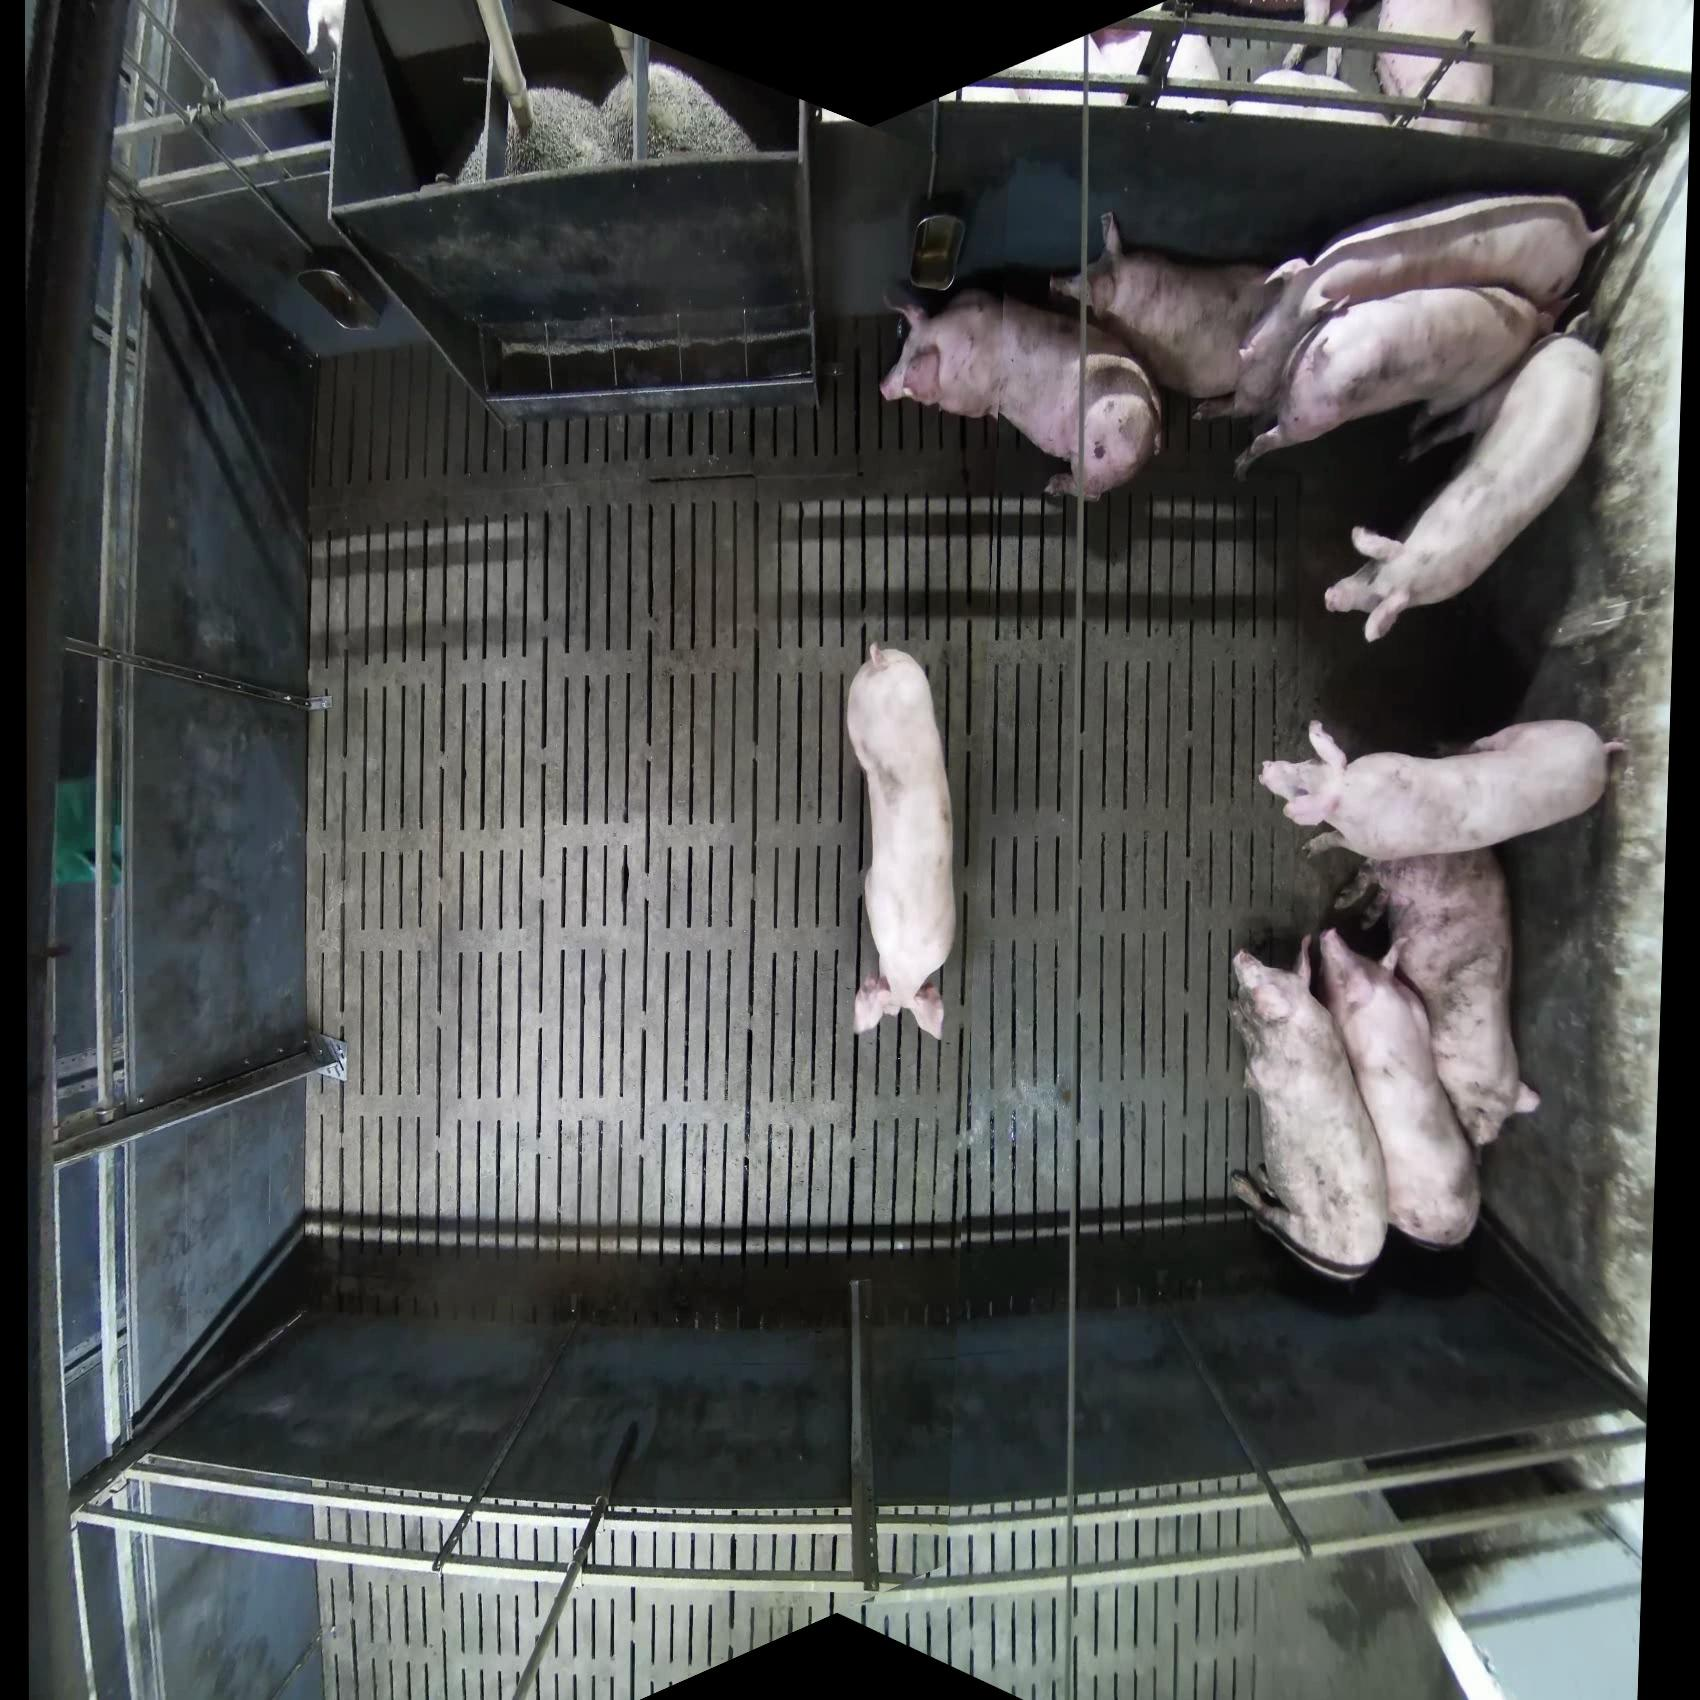pig: (1323, 332, 1607, 645), (1227, 191, 1603, 420), (878, 279, 1164, 504), (1231, 283, 1551, 484), (1337, 845, 1543, 1150), (1227, 939, 1390, 1283), (1315, 926, 1484, 1252), (1256, 718, 1628, 862), (844, 641, 957, 1041), (1049, 210, 1281, 405), (1375, 2, 1498, 137), (1088, 23, 1227, 115), (1233, 67, 1389, 125), (1281, 2, 1356, 86)
